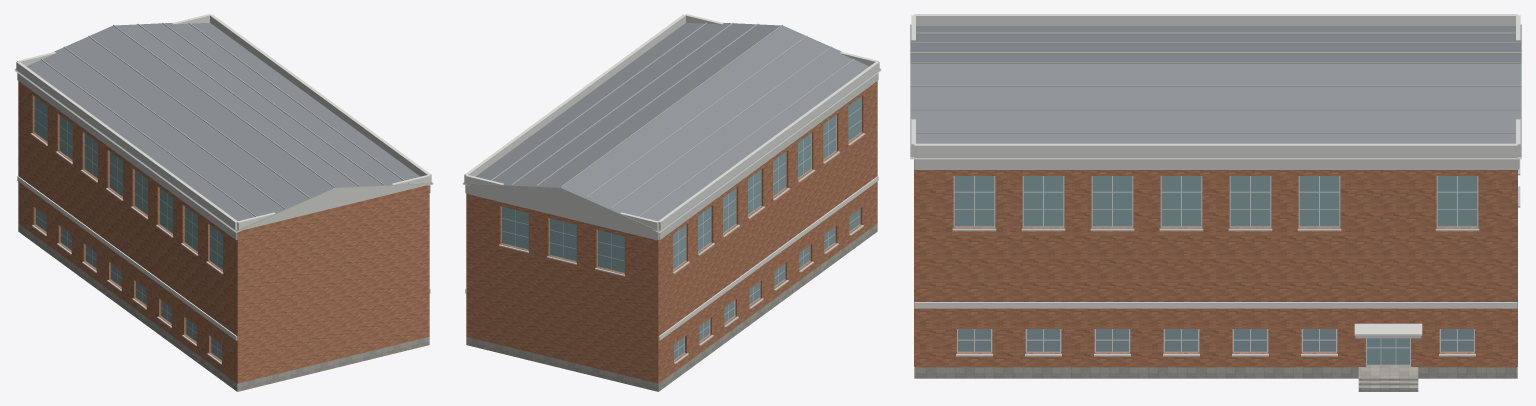
The picture shows the model from 3 angles, left to right: view 1: azimuth 30°, elevation 25°; view 2: azimuth 150°, elevation 25°; view 3: azimuth 270°, elevation 25°; orthographic projection. The views are drawn at different scales.
Parts seen in each view (by area): view 1: gym__brick, gym__metalroof, gym__cap, gym__white, gym__glass, gym__stone, gym__roof, gym__frame, gym__sideglass, gym__band, gym__sill, gym__slab; view 2: gym__brick, gym__metalroof, gym__glass, gym__cap, gym__white, gym__stone, gym__roof, gym__frame, gym__sideglass, gym__band, gym__sill, gym__slab; view 3: gym__brick, gym__metalroof, gym__cap, gym__glass, gym__roof, gym__white, gym__stone, gym__sideglass, gym__frame, gym__band, gym__sill, gym__slab (+2 smaller).
Part boxes in pixels (x1,y1,x2,y2): gym__brick: (18,81,429,383); gym__metalroof: (14,22,433,231); gym__cap: (16,14,431,231); gym__white: (17,73,431,240); gym__glass: (34,97,222,269); gym__stone: (18,223,429,391); gym__roof: (40,22,408,219); gym__frame: (34,96,222,360); gym__sideglass: (36,209,221,359); gym__band: (17,176,430,340); gym__sill: (30,133,223,364); gym__slab: (14,70,432,232); gym__brick: (466,81,877,383); gym__metalroof: (462,22,881,231); gym__glass: (502,97,861,272); gym__cap: (464,14,879,231); gym__white: (464,73,878,240); gym__stone: (466,223,877,391); gym__roof: (487,22,855,219); gym__frame: (501,96,861,360); gym__sideglass: (674,209,859,359); gym__band: (465,176,878,340); gym__sill: (498,133,865,364); gym__slab: (463,70,881,232); gym__brick: (914,159,1517,367); gym__metalroof: (910,24,1521,156); gym__cap: (911,14,1520,335); gym__glass: (954,176,1477,364); gym__roof: (911,32,1520,133); gym__white: (914,157,1519,169); gym__stone: (914,367,1517,378); gym__sideglass: (958,329,1473,351); gym__frame: (953,176,1478,365); gym__band: (914,302,1517,308); gym__sill: (952,159,1520,356); gym__slab: (910,157,1521,159).
Bounding box in the file's own units: 21.72 × 17.25 × 38.
Materials: 13 (3 with a texture image).
